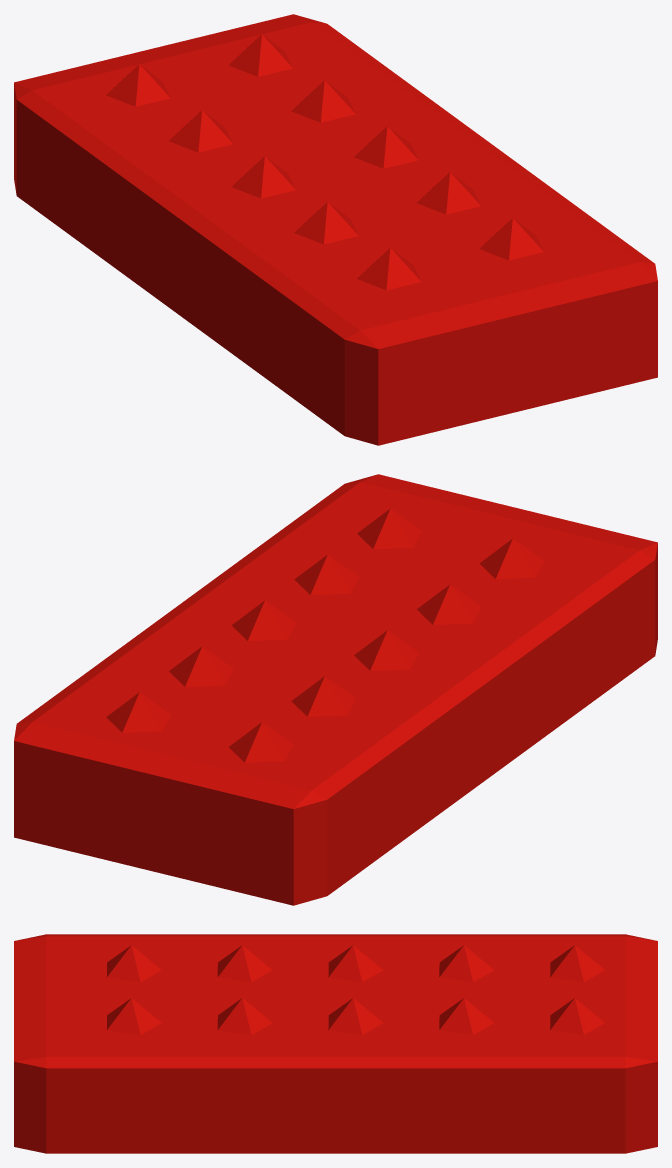
Rendered from engel.fbx.
The picture shows the model from 3 angles, top to bottom: view 1: azimuth 30°, elevation 25°; view 2: azimuth 150°, elevation 25°; view 3: azimuth 270°, elevation 25°; orthographic projection. The views are drawn at different scales.
Visible parts, largest first — view 1: Cube; view 2: Cube; view 3: Cube.
Boxes of the visible parts, bbox=[...] form: Cube: bbox=[14, 14, 657, 445]; Cube: bbox=[14, 474, 657, 905]; Cube: bbox=[14, 934, 657, 1153].
Size of the model in its own units: 406 by 83.43 by 200.
